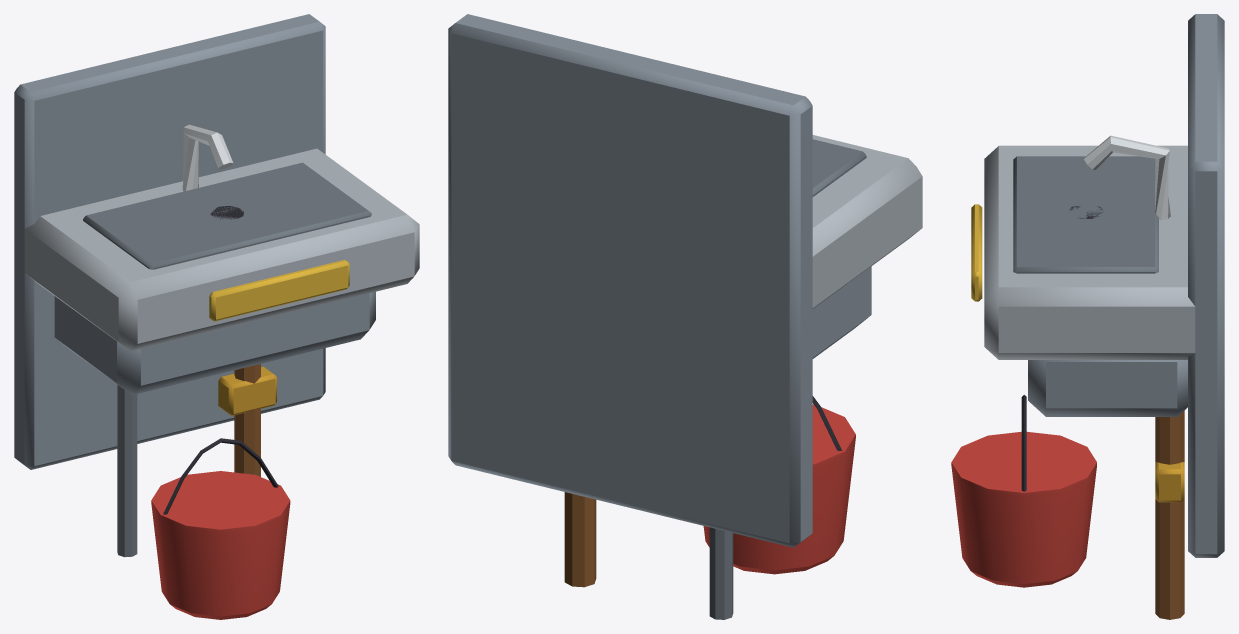
File: fountain_block.glb
3 renders of one model, left to right at view 1: azimuth 30°, elevation 25°; view 2: azimuth 150°, elevation 25°; view 3: azimuth 270°, elevation 25°, orthographic. The views are drawn at different scales.
Visible parts, largest first — view 1: fountain; view 2: fountain; view 3: fountain.
Part boxes in pixels (x1=…): fountain: x1=14, y1=14, x2=419, y2=619; fountain: x1=448, y1=14, x2=922, y2=619; fountain: x1=951, y1=14, x2=1224, y2=619.
Size of the model in its own units: 1 by 1.5 by 0.75.
